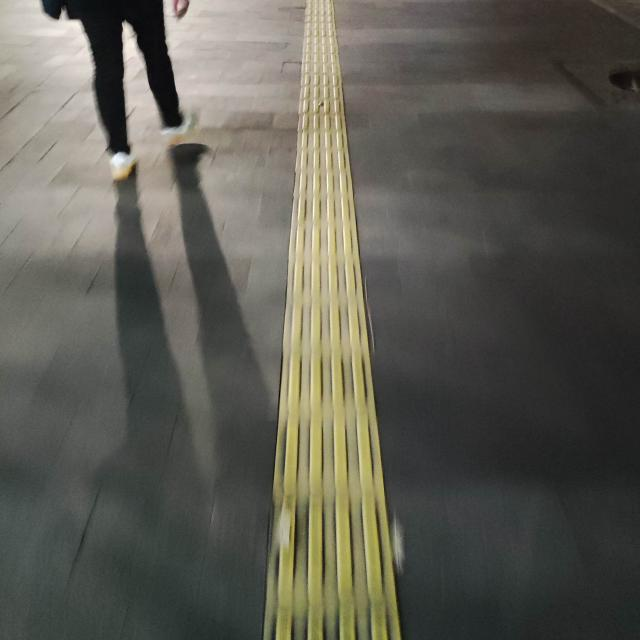lurus: (273, 0, 391, 640)
